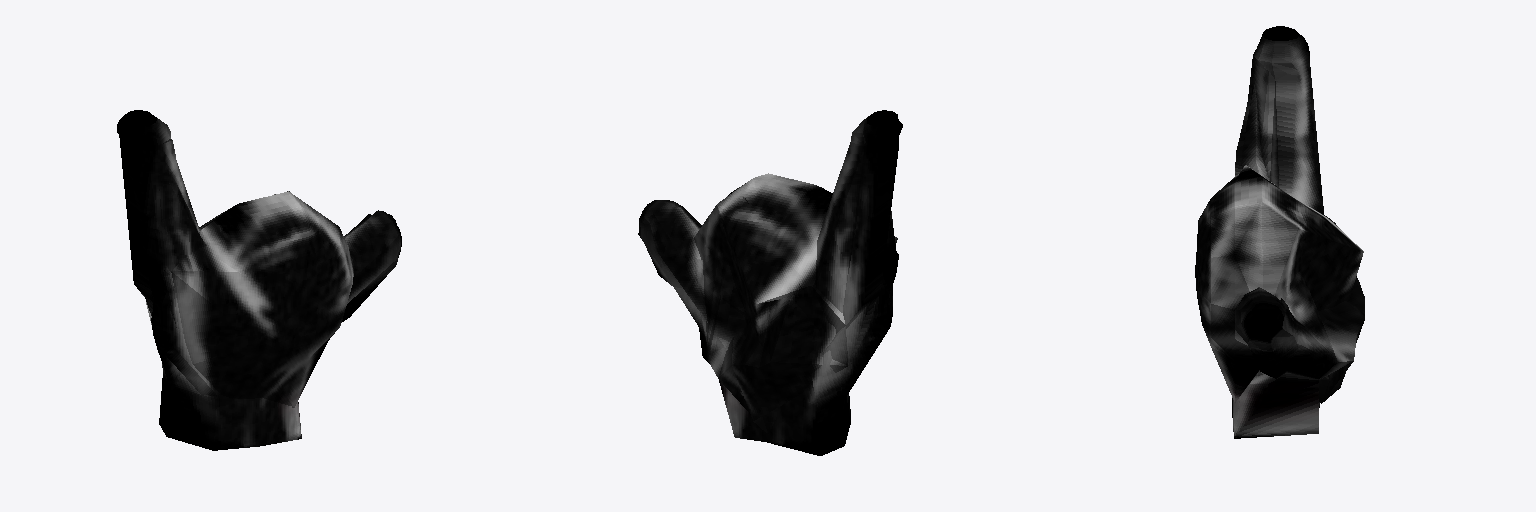
3 views of the same model, side by side, from view 1: azimuth 30°, elevation 25°; view 2: azimuth 150°, elevation 25°; view 3: azimuth 270°, elevation 25° (orthographic).
Parts seen in each view (by area): view 1: 000_Merged_Objects_1; view 2: 000_Merged_Objects_1; view 3: 000_Merged_Objects_1.
Part boxes in pixels (left/top/right/bottom): 000_Merged_Objects_1: left=117, top=110, right=401, bottom=450; 000_Merged_Objects_1: left=638, top=110, right=902, bottom=455; 000_Merged_Objects_1: left=1195, top=26, right=1364, bottom=438.
Bounding box in the file's own units: 189 × 231 × 104.
Materials: 1 (1 with a texture image).